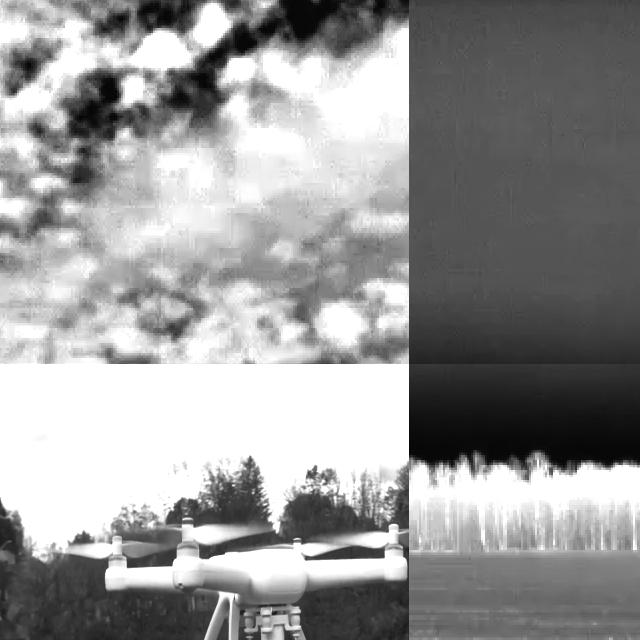drone: (112, 515, 409, 640)
